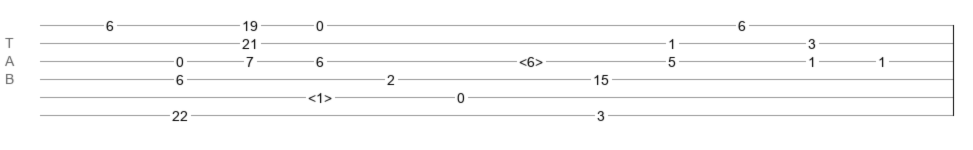0: (176, 54, 184, 64), (316, 18, 324, 28), (457, 90, 465, 100)
1: (668, 36, 676, 46), (808, 54, 816, 64), (878, 54, 886, 64)
15: (593, 72, 609, 82)
19: (242, 18, 258, 28)
2: (387, 72, 395, 82)
21: (242, 36, 258, 46)
22: (172, 108, 188, 118)
3: (597, 108, 605, 118), (808, 36, 816, 46)
5: (668, 54, 676, 64)
6: (106, 18, 114, 28), (176, 72, 184, 82), (316, 54, 324, 64), (738, 18, 746, 28)
7: (246, 54, 254, 64)
harmonic: (308, 90, 332, 100), (519, 54, 543, 64)
